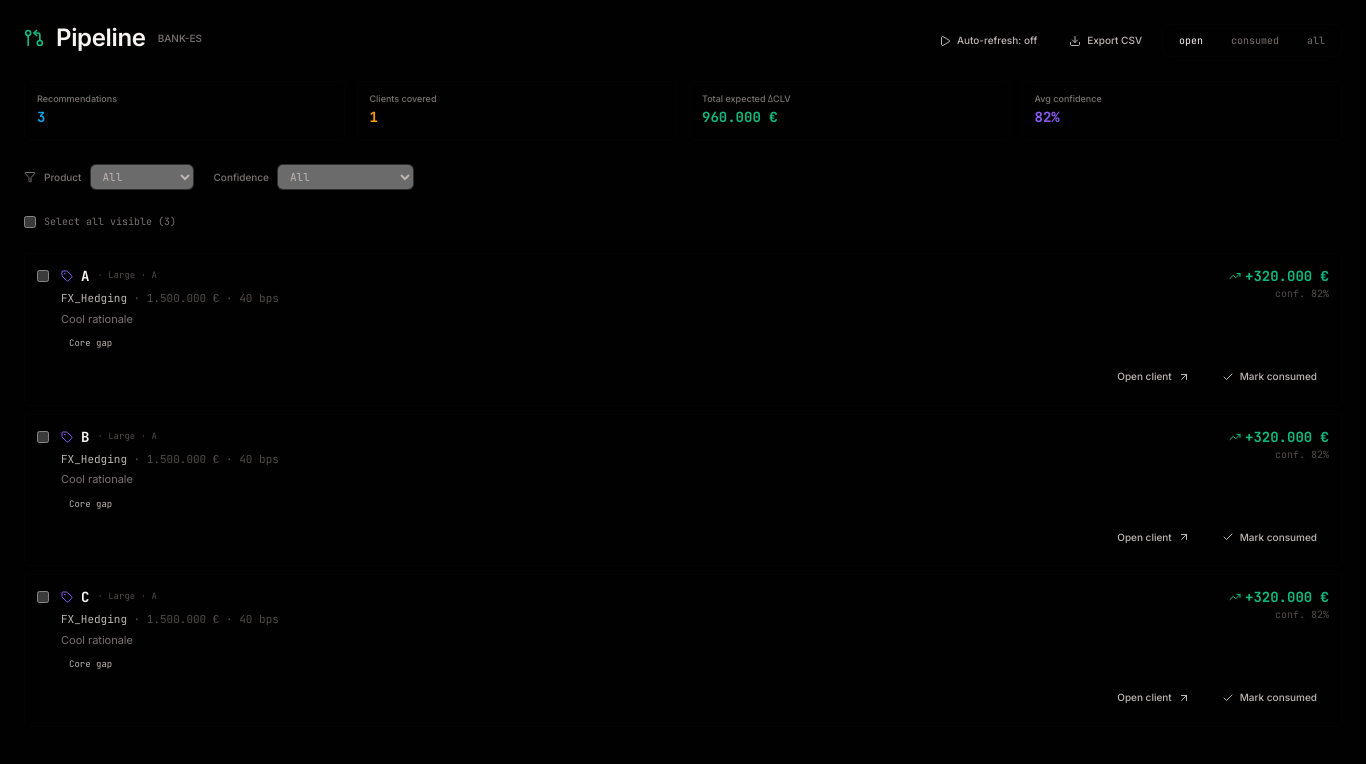
Test: PipelineView › select-all checkbox picks every visible row
Check: the text "A" is shown, box x1=81 y1=266 x2=89 y2=286
Click the checkbox with test id "pipeline-select-all" at [30, 222], box x1=24 y1=216 x2=36 y2=228
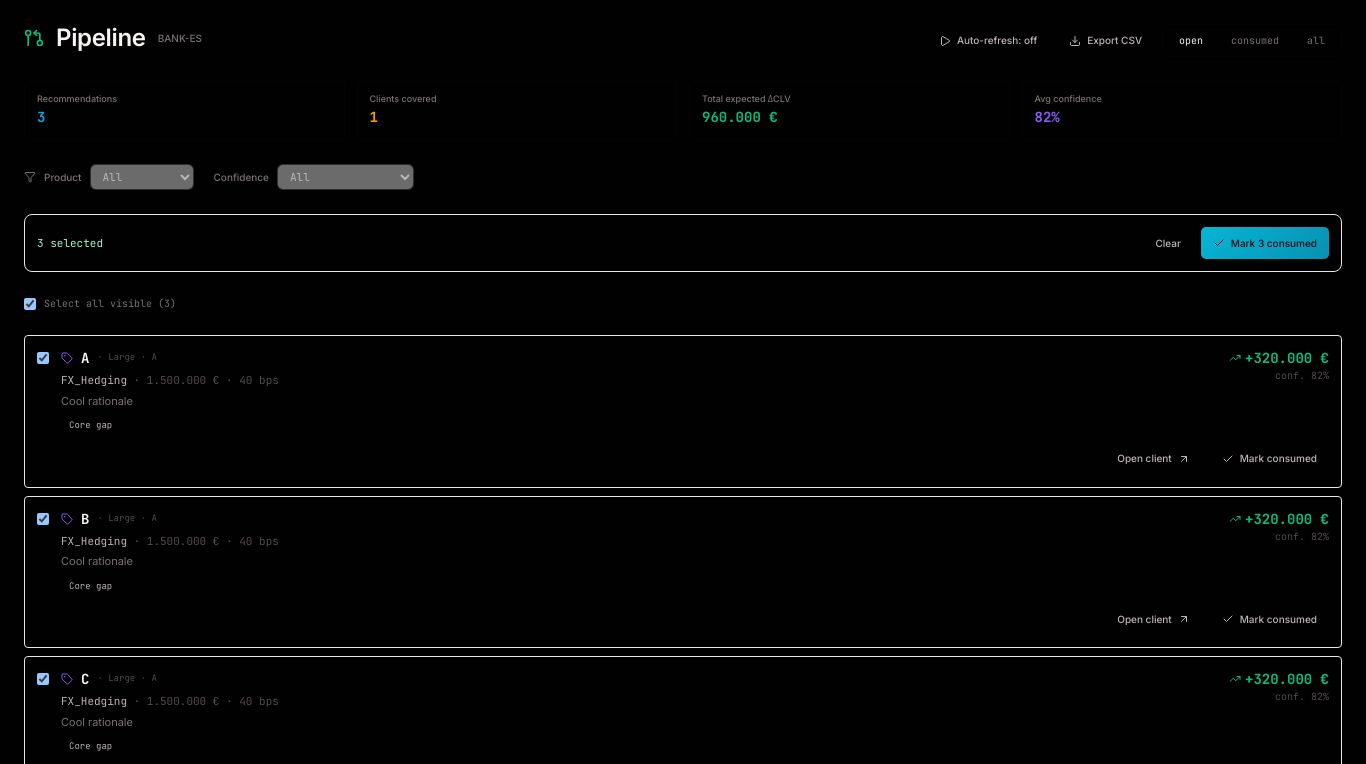
Check: the text "3 selected" is shown, box x1=37 y1=235 x2=103 y2=251
